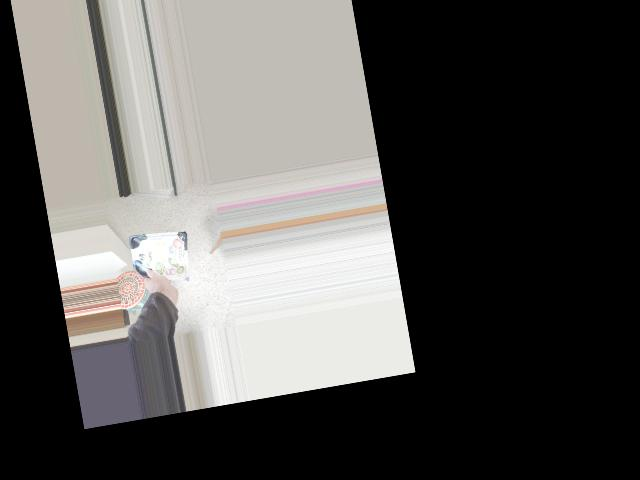cheese: (130, 238, 197, 306)
